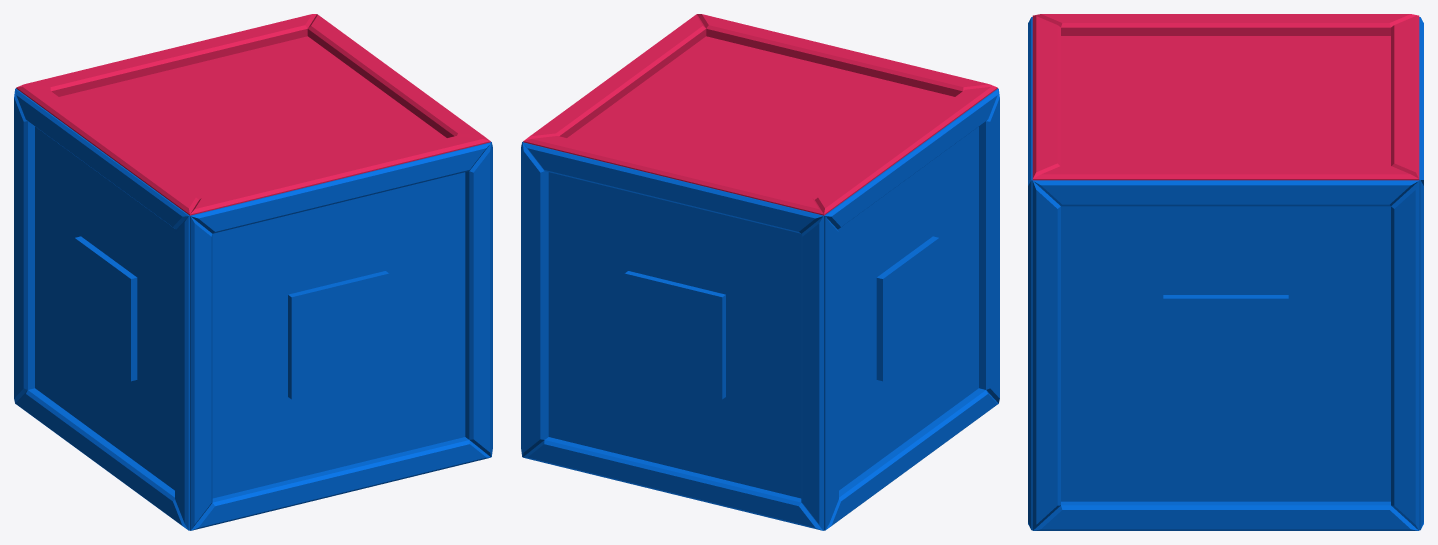
File: crate.fbx
The picture shows the model from 3 angles, left to right: view 1: azimuth 30°, elevation 25°; view 2: azimuth 150°, elevation 25°; view 3: azimuth 270°, elevation 25°; orthographic projection. The views are drawn at different scales.
Parts seen in each view (by area): view 1: crate; view 2: crate; view 3: crate.
Part boxes in pixels (x1,y1,x2,y2): crate: [14, 14, 492, 530]; crate: [521, 14, 999, 530]; crate: [1028, 14, 1423, 530].
Bounding box in the file's own units: 181 × 178 × 181.
